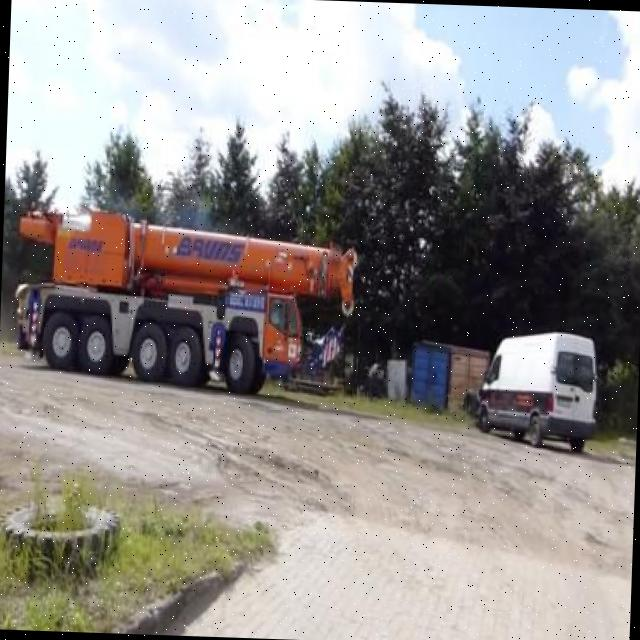Mobile Crane: (10, 205, 352, 392)
